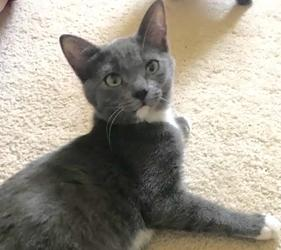rblue: (51, 1, 197, 145)
